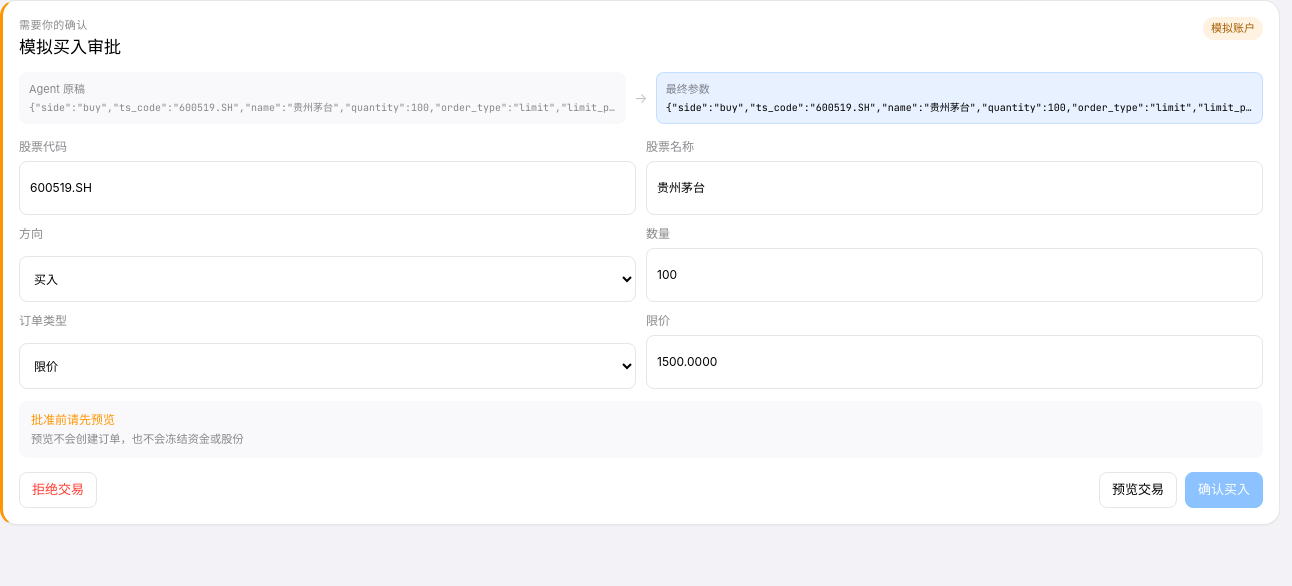
Test: <PaperApprovalCard> › keeps approval disabled after a stock preview failure
Replace the text in the field labelled "股票代码" with "000001.SZ" at [328, 188], box [19,161,636,215]
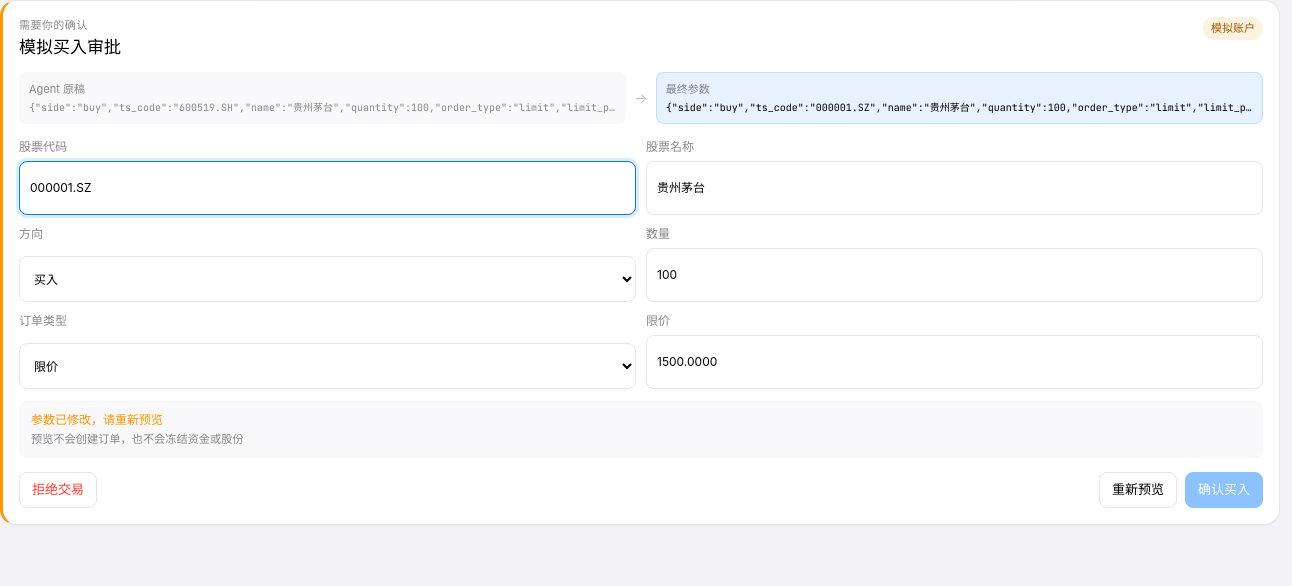
Click the button "重新预览" at [1138, 490], box [1099,472,1177,508]
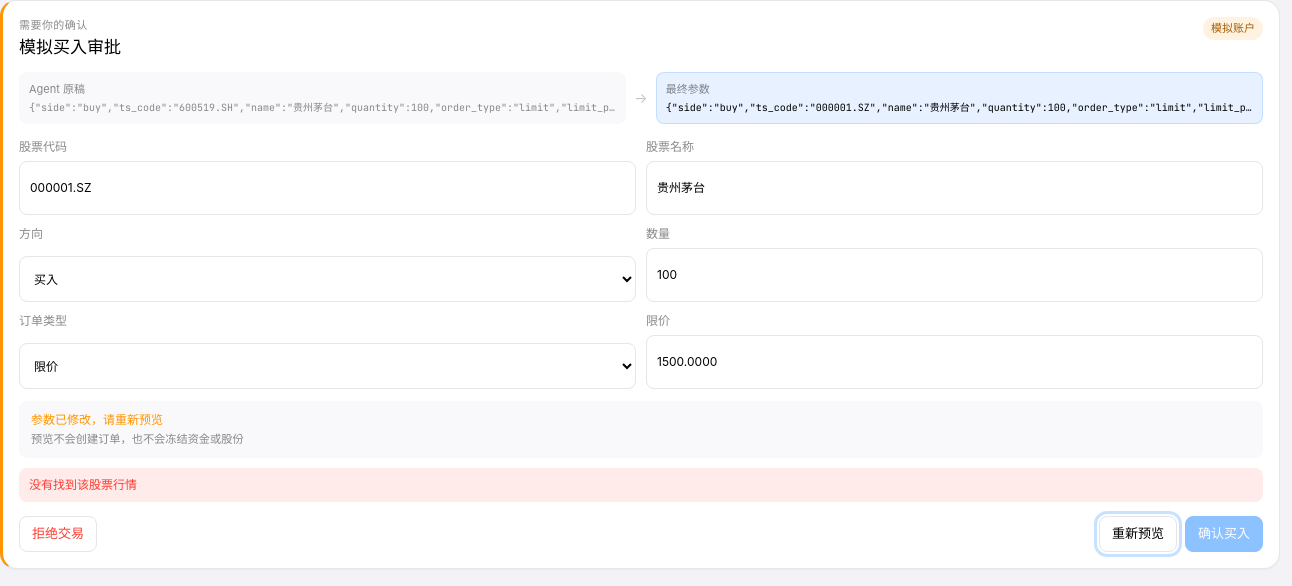
Expected: the button "确认买入" is disabled, [1185,516,1263,552]
Expected: the message reads "没有找到该股票行情", [29,477,137,492]
